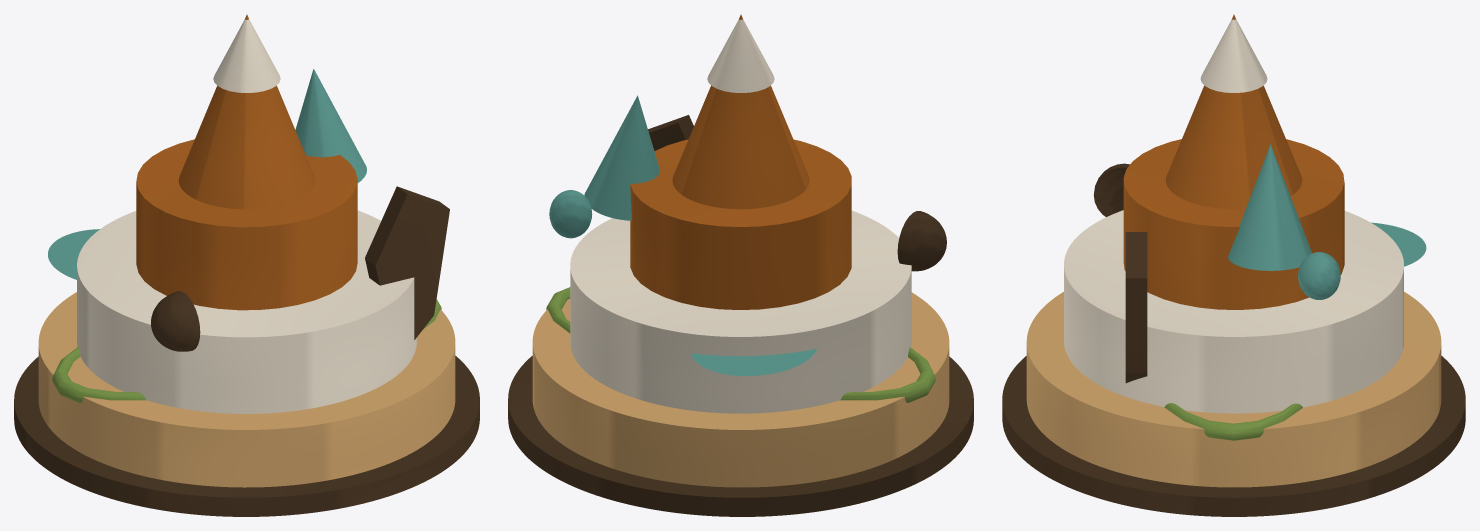
Rendered from 0781_天气与气候图鉴_撒哈拉沙漠.glb.
The picture shows the model from 3 angles, left to right: view 1: azimuth 30°, elevation 25°; view 2: azimuth 150°, elevation 25°; view 3: azimuth 270°, elevation 25°; orthographic projection.
Visible parts, largest first — view 1: card_0781; view 2: card_0781; view 3: card_0781.
Boxes of the visible parts, x1,y1,x2,y2 form: card_0781: (14,14,479,516); card_0781: (508,14,973,516); card_0781: (1002,14,1465,516).
Size of the model in its own units: 1.04 by 1 by 1.04.
